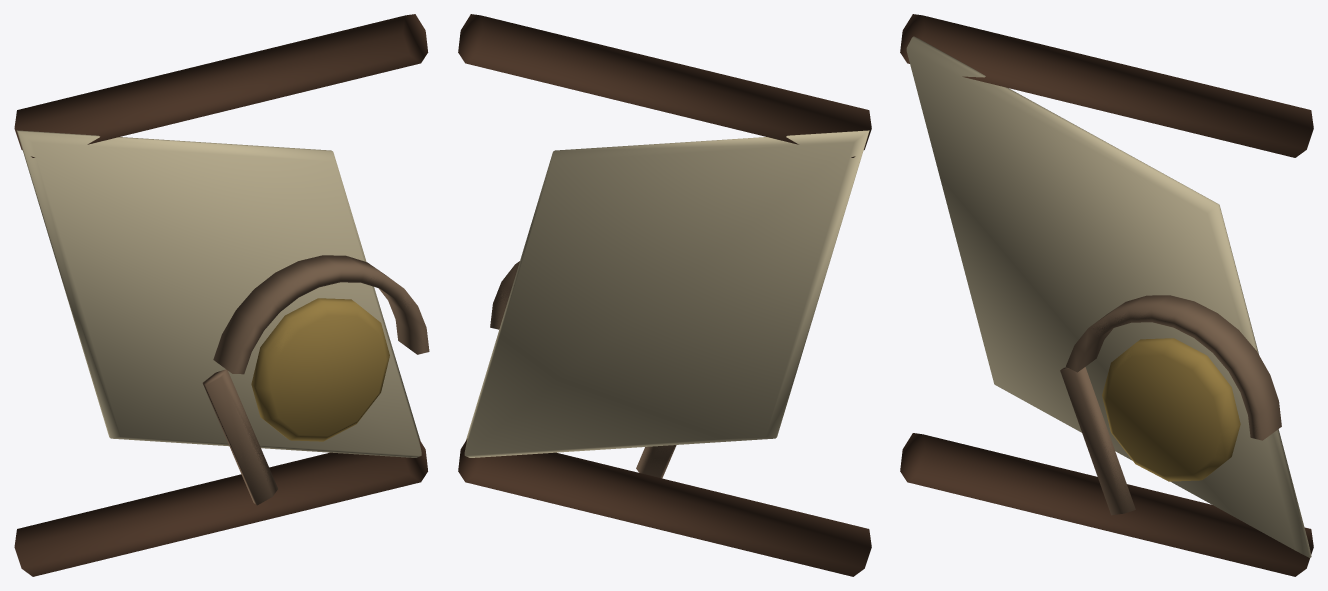
The model's file is crossing_writ.obj.
The picture shows the model from 3 angles, left to right: view 1: azimuth 30°, elevation 25°; view 2: azimuth 150°, elevation 25°; view 3: azimuth 330°, elevation 25°; orthographic projection.
Visible parts, largest first — view 1: A_WritSheet.001_bone, A_TopRoll.001_dark_wood, A_BottomRoll.001_dark_wood, A_Seal.001_ritual_gold, A_CordWrap.001_aged_cloth, A_ClothTail.001_aged_cloth; view 2: A_WritSheet.001_bone, A_BottomRoll.001_dark_wood, A_TopRoll.001_dark_wood, A_ClothTail.001_aged_cloth, A_CordWrap.001_aged_cloth; view 3: A_WritSheet.001_bone, A_TopRoll.001_dark_wood, A_BottomRoll.001_dark_wood, A_Seal.001_ritual_gold, A_CordWrap.001_aged_cloth, A_ClothTail.001_aged_cloth.
Boxes of the visible parts, x1,y1,x2,y2 form: A_WritSheet.001_bone: (16,130,421,457); A_TopRoll.001_dark_wood: (14,14,428,157); A_BottomRoll.001_dark_wood: (14,439,427,576); A_Seal.001_ritual_gold: (251,298,389,441); A_CordWrap.001_aged_cloth: (213,255,429,374); A_ClothTail.001_aged_cloth: (202,369,277,505); A_WritSheet.001_bone: (464,130,869,457); A_BottomRoll.001_dark_wood: (458,438,871,576); A_TopRoll.001_dark_wood: (458,14,871,157); A_ClothTail.001_aged_cloth: (636,445,676,478); A_CordWrap.001_aged_cloth: (490,261,519,329); A_WritSheet.001_bone: (906,36,1311,557); A_TopRoll.001_dark_wood: (900,14,1313,157); A_BottomRoll.001_dark_wood: (900,433,1313,576); A_Seal.001_ritual_gold: (1102,338,1240,481); A_CordWrap.001_aged_cloth: (1066,295,1281,440); A_ClothTail.001_aged_cloth: (1060,367,1135,515).
Bounding box in the file's own units: 1.34 × 1.46 × 0.2231.
